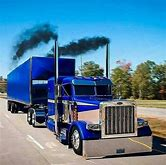smoke: (12, 24, 58, 53), (59, 36, 110, 57)
